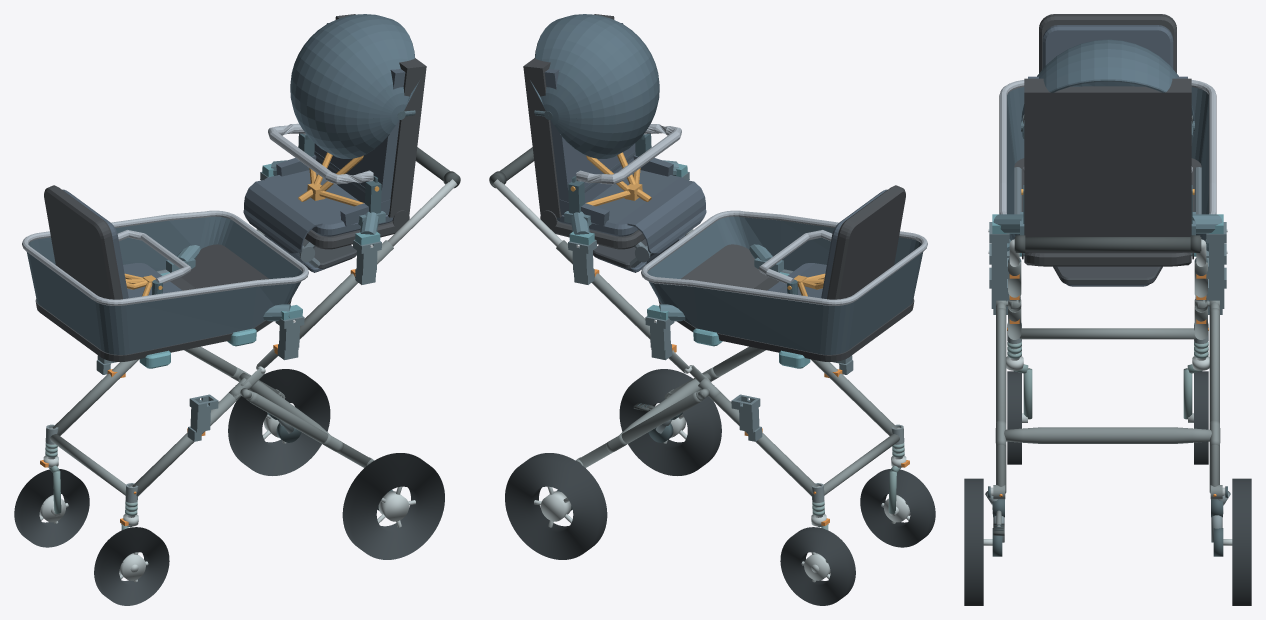
The model's file is D20_w550_state1_wheel_M.glb.
3 renders of one model, left to right at view 1: azimuth 30°, elevation 25°; view 2: azimuth 150°, elevation 25°; view 3: azimuth 270°, elevation 25°, orthographic. The views are drawn at different scales.
Visible parts, largest first — view 1: D20_Lower, D20_Upper, RL_tire.002, RR_tire.002, FL_tire.002, FR_tire.002, V46_rear_leg_-1.003, main_lower_-1.003, main_lower_1.003, main_upper_-1.003, D20_Lower_Mount_M, Universal_Cabin_Receiver_L_-1 (+8 smaller); view 2: D20_Lower, D20_Upper, RR_tire.002, RL_tire.002, FR_tire.002, FL_tire.002, V46_rear_leg_1.003, main_lower_1.003, main_lower_-1.003, main_upper_1.003, D20_Lower_Mount_M, Universal_Cabin_Receiver_L_1 (+8 smaller); view 3: D20_Upper, D20_Lower, V46_rearbar.003, RL_tire.002, RR_tire.002, round_handle.002, front_fixed_round_tube.002, V46_rear_leg_1.003, V46_rear_leg_-1.003, D20_Upper_Mount_H, FL_tire.002, FR_tire.002 (+8 smaller).
Part boxes in pixels (x1,y1,x2,y2): D20_Lower: (22, 185, 308, 368); D20_Upper: (243, 14, 426, 272); RL_tire.002: (342, 453, 444, 559); RR_tire.002: (228, 369, 330, 475); FL_tire.002: (94, 527, 169, 605); FR_tire.002: (14, 469, 89, 547); V46_rear_leg_-1.003: (248, 392, 370, 467); main_lower_-1.003: (132, 392, 240, 496); main_lower_1.003: (52, 359, 138, 435); main_upper_-1.003: (299, 240, 393, 339); D20_Lower_Mount_M: (166, 245, 302, 322); Universal_Cabin_Receiver_L_-1: (187, 394, 218, 441); D20_Lower: (641, 185, 927, 368); D20_Upper: (523, 14, 706, 272); RR_tire.002: (505, 453, 607, 559); RL_tire.002: (619, 369, 721, 475); FR_tire.002: (780, 527, 855, 605); FL_tire.002: (860, 469, 935, 547); V46_rear_leg_1.003: (579, 392, 701, 467); main_lower_1.003: (709, 392, 817, 496); main_lower_-1.003: (811, 359, 897, 435); main_upper_1.003: (556, 240, 650, 339); D20_Lower_Mount_M: (647, 244, 783, 322); Universal_Cabin_Receiver_L_1: (731, 394, 762, 441); D20_Upper: (1021, 39, 1194, 286); D20_Lower: (999, 14, 1216, 256); V46_rearbar.003: (1004, 427, 1211, 443); RL_tire.002: (964, 478, 983, 605); RR_tire.002: (1232, 478, 1251, 605); round_handle.002: (1014, 237, 1201, 251); front_fixed_round_tube.002: (1020, 328, 1195, 339); V46_rear_leg_1.003: (1209, 308, 1219, 493); V46_rear_leg_-1.003: (996, 308, 1006, 493); D20_Upper_Mount_H: (988, 212, 1227, 235); FL_tire.002: (1007, 371, 1021, 464); FR_tire.002: (1194, 371, 1208, 464).
Size of the model in its own units: 1.16 by 1.48 by 0.6771.
